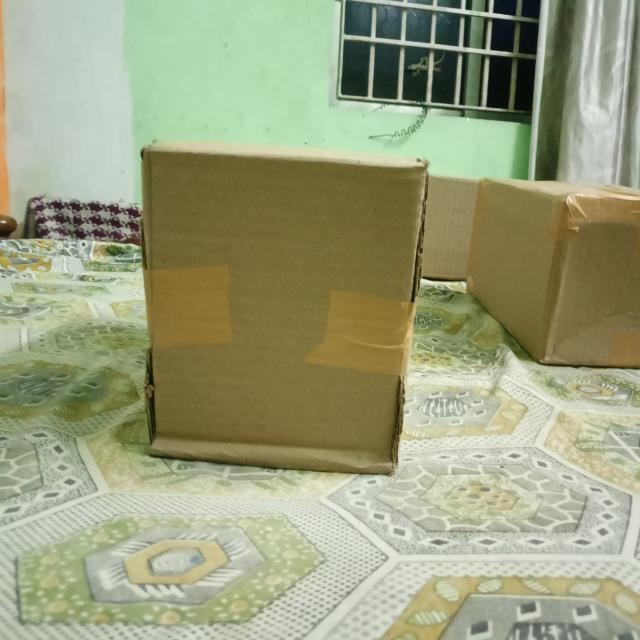box: (148, 150, 429, 472)
